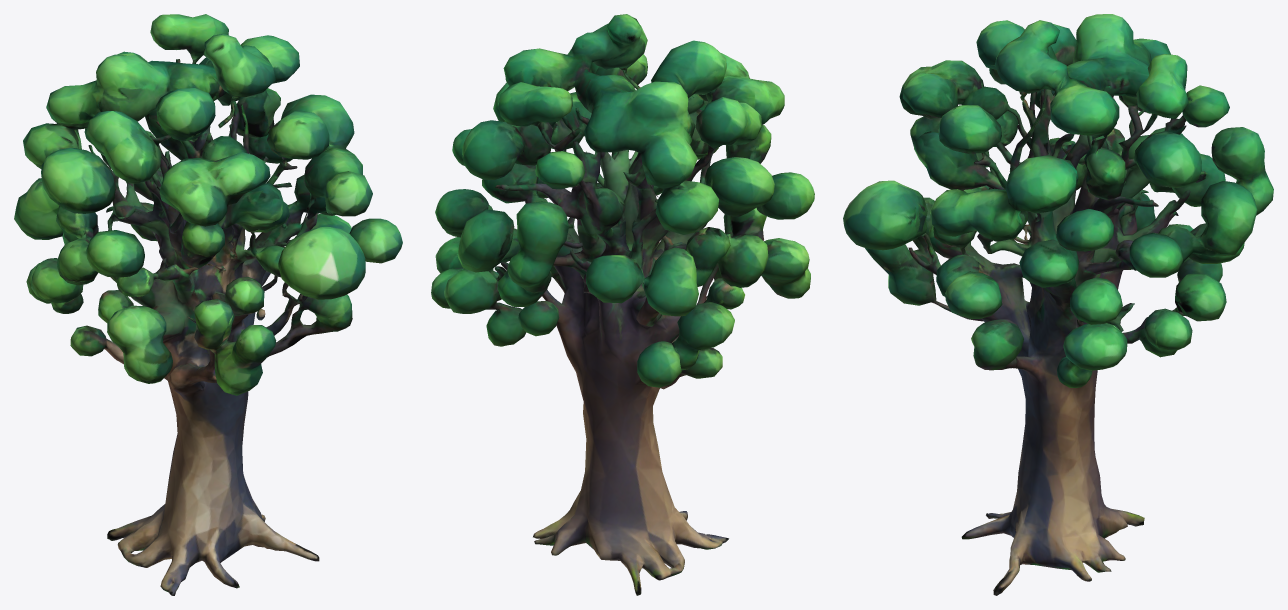
The model's file is Low_Poly_Tree_in_a_fa_0425195043.glb.
3 views of the same model, side by side, from view 1: azimuth 30°, elevation 25°; view 2: azimuth 150°, elevation 25°; view 3: azimuth 270°, elevation 25° (orthographic).
Size of the model in its own units: 1.26 by 2.01 by 1.46.
1 material, 1 textured.
